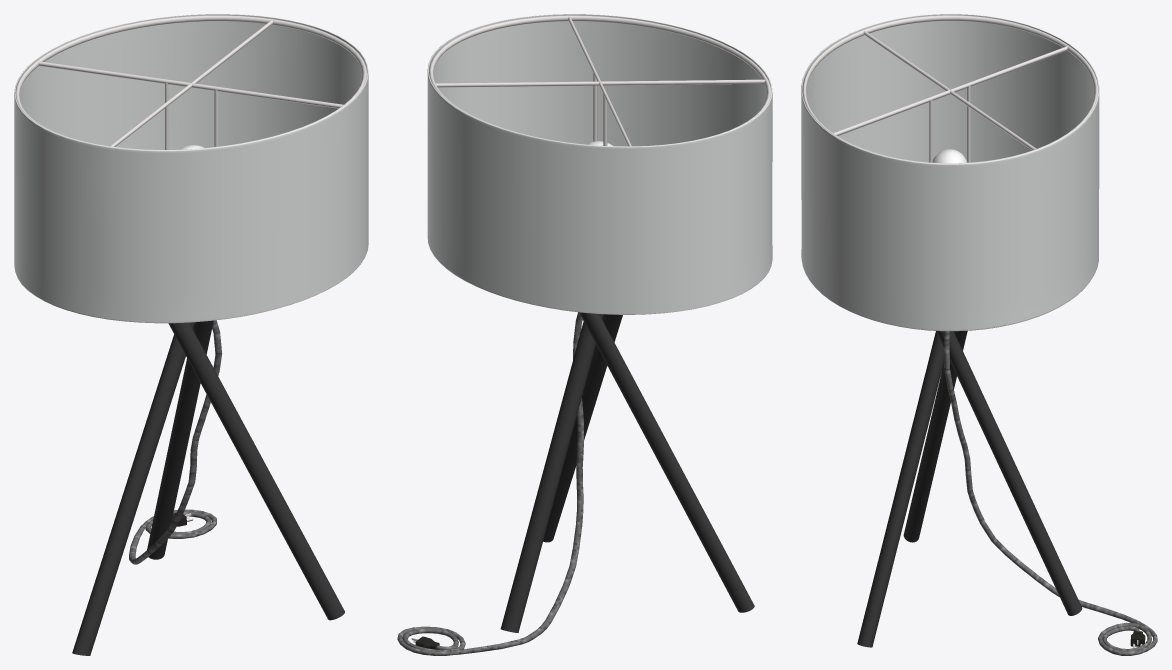
File: abo-B073P39KRV.glb
The picture shows the model from 3 angles, left to right: view 1: azimuth 30°, elevation 25°; view 2: azimuth 150°, elevation 25°; view 3: azimuth 270°, elevation 25°; orthographic projection. The views are drawn at different scales.
Size of the model in its own units: 0.422 by 0.674 by 0.422.
Materials: 1 (1 with a texture image).
